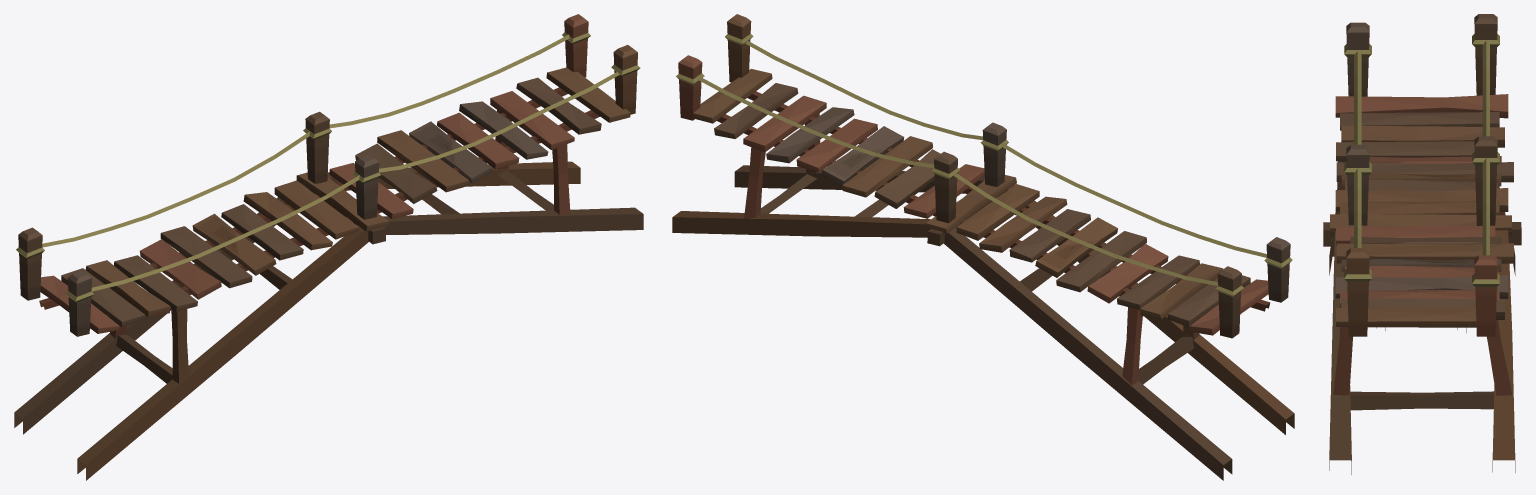
File: um_bridge001.FBX
3 renders of one model, left to right at view 1: azimuth 30°, elevation 25°; view 2: azimuth 150°, elevation 25°; view 3: azimuth 270°, elevation 25°, orthographic. The views are drawn at different scales.
Visible parts, largest first — view 1: um_bridge001; view 2: um_bridge001; view 3: um_bridge001.
Boxes of the visible parts, <box> form: um_bridge001: <box>14,14,643,480</box>; um_bridge001: <box>672,14,1294,480</box>; um_bridge001: <box>1323,14,1521,474</box>.
Size of the model in its own units: 8.47 by 4.17 by 1.99.
